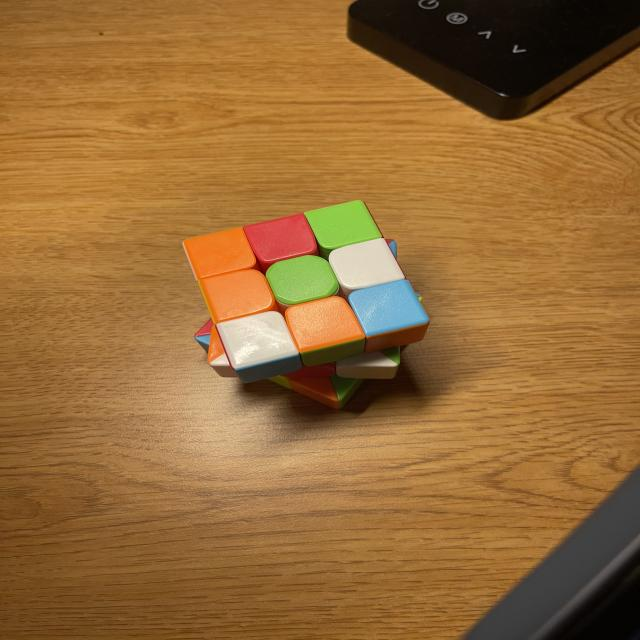Rubiks Cube: (183, 201, 430, 411)
